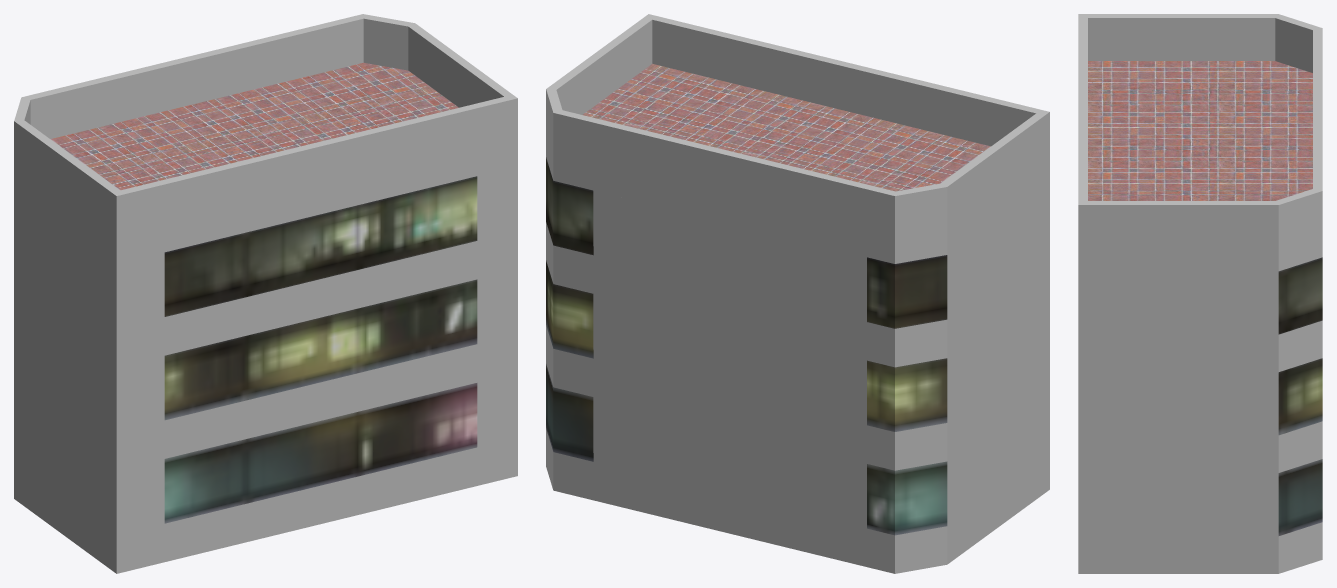
The model's file is hirise_parts02_3f.fbx.
3 views of the same model, side by side, from view 1: azimuth 30°, elevation 25°; view 2: azimuth 150°, elevation 25°; view 3: azimuth 270°, elevation 25° (orthographic). The views are drawn at different scales.
Visible parts, largest first — view 1: hirise_parts02_3f; view 2: hirise_parts02_3f; view 3: hirise_parts02_3f.
Boxes of the visible parts, x1,y1,x2,y2 form: hirise_parts02_3f: [14, 14, 517, 573]; hirise_parts02_3f: [546, 14, 1049, 573]; hirise_parts02_3f: [1078, 14, 1322, 573].
Bounding box in the file's own units: 12.59 × 11.33 × 6.8.
